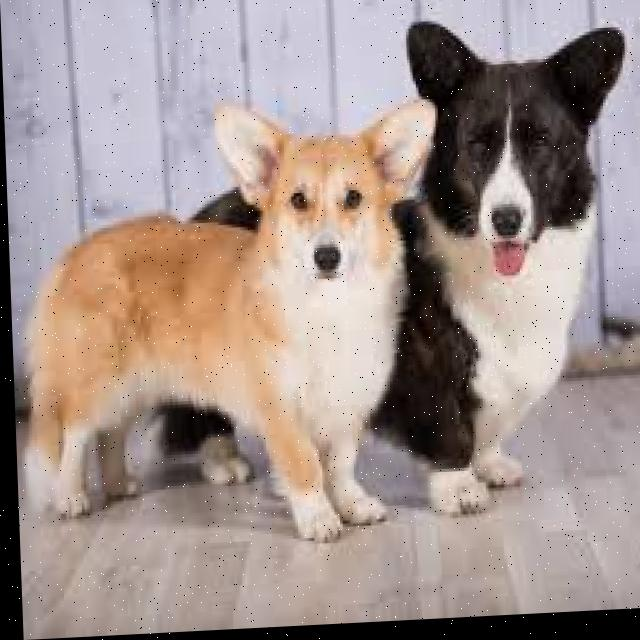CORGI: (175, 20, 640, 532), (3, 91, 443, 580)
